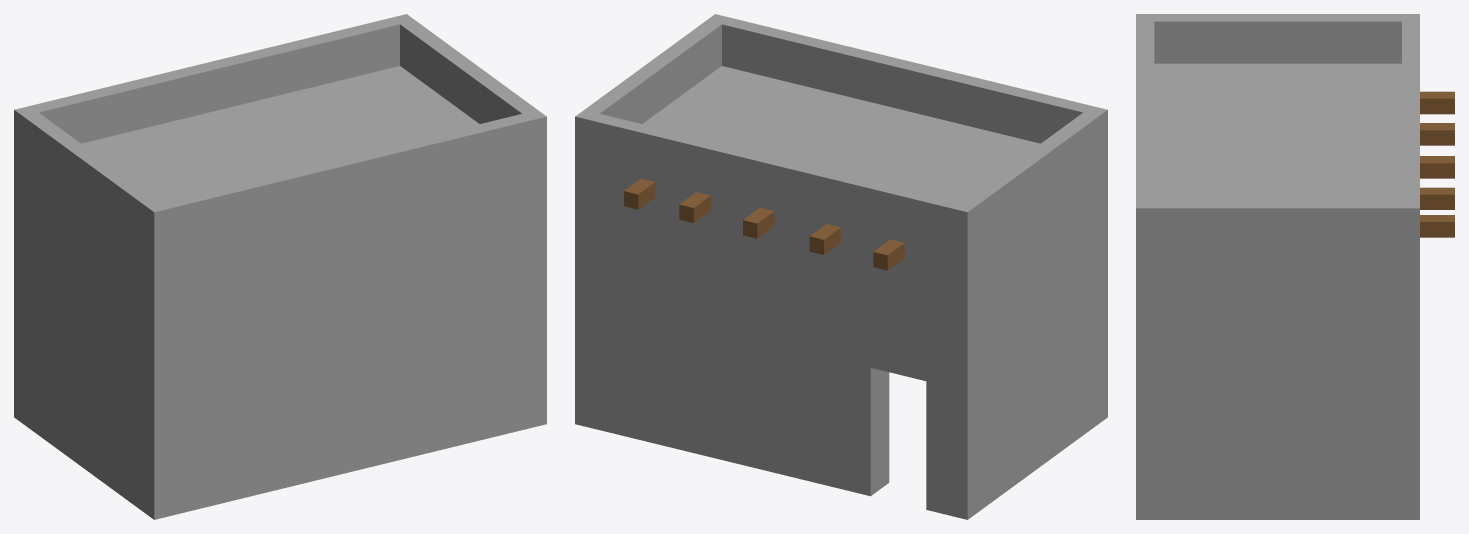
File: Casa2.fbx
The picture shows the model from 3 angles, left to right: view 1: azimuth 30°, elevation 25°; view 2: azimuth 150°, elevation 25°; view 3: azimuth 270°, elevation 25°; orthographic projection.
Parts seen in each view (by area): view 1: Casa2; view 2: Casa2; view 3: Casa2.
Part boxes in pixels (box(x1,y1,x2,y2)): Casa2: box(14, 14, 546, 519); Casa2: box(575, 14, 1107, 519); Casa2: box(1136, 14, 1454, 519).
Bounding box in the file's own units: 12168 × 9112 × 8442.
